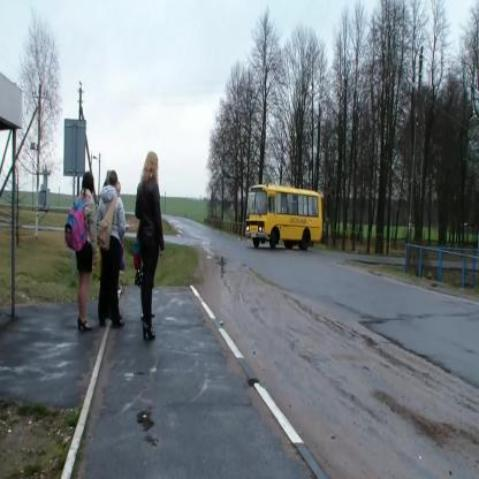bus: (245, 185, 324, 251)
